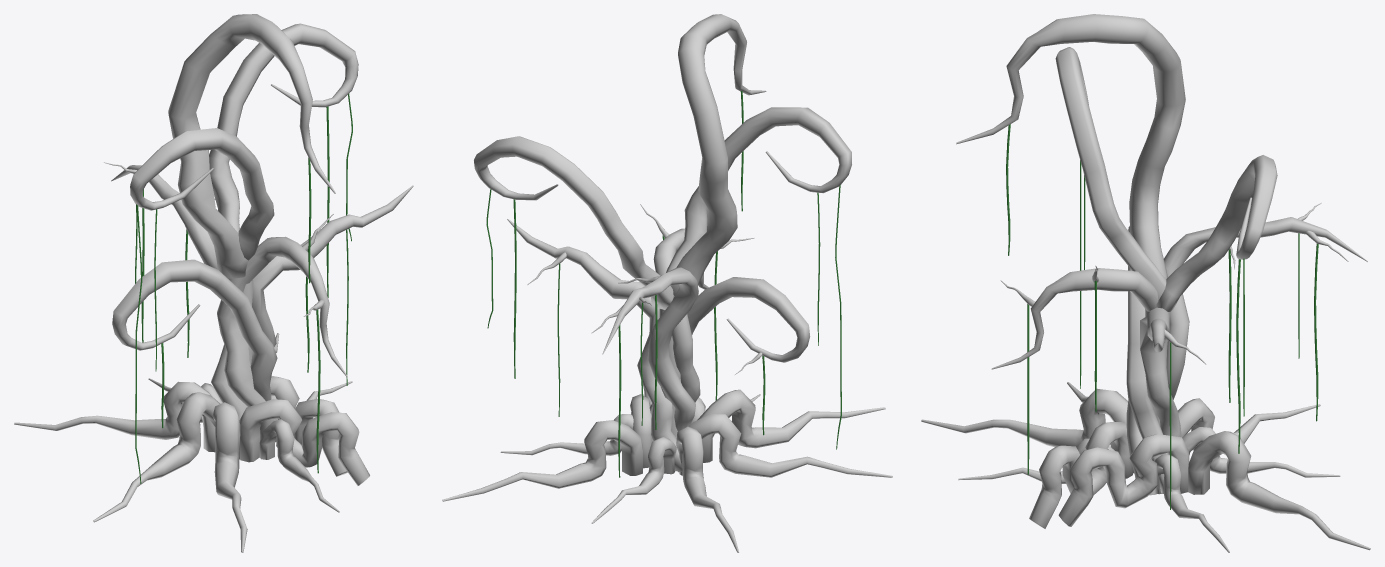
Rendered from Plants_Mutant_V_03.fbx.
3 views of the same model, side by side, from view 1: azimuth 30°, elevation 25°; view 2: azimuth 150°, elevation 25°; view 3: azimuth 270°, elevation 25° (orthographic). The views are drawn at different scales.
Visible parts, largest first — view 1: Plants, Lianas; view 2: Plants, Lianas; view 3: Plants, Lianas.
Boxes of the visible parts, x1,y1,x2,y2 form: Plants: (14,14,413,552); Lianas: (135,93,352,483); Plants: (442,14,892,552); Lianas: (486,91,841,477); Plants: (921,14,1370,552); Lianas: (1006,124,1318,509).
Size of the model in its own units: 643 by 778 by 662.
